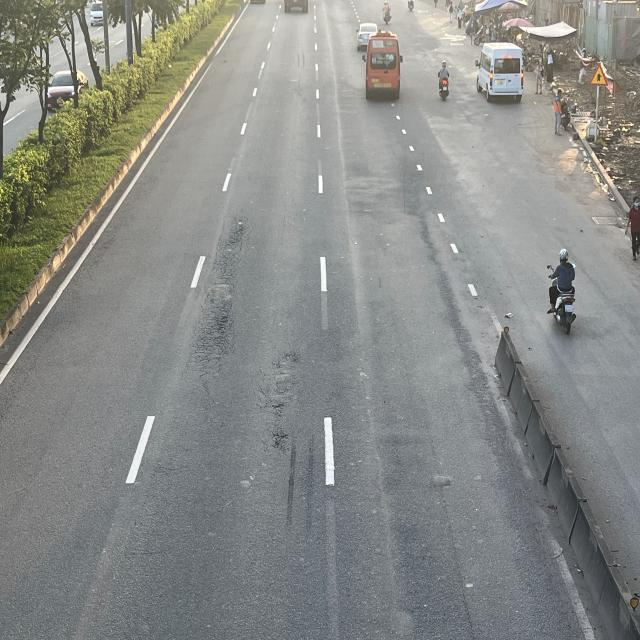van: (475, 42, 524, 102), (361, 32, 400, 102)
